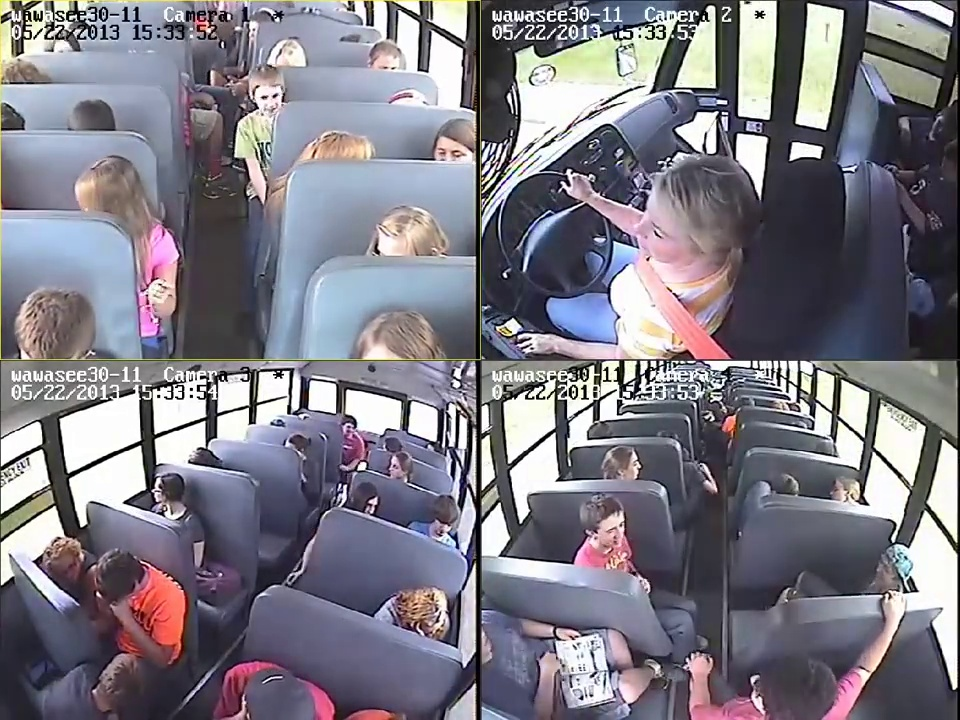face: (630, 197, 695, 274), (427, 128, 473, 163), (600, 509, 625, 550), (254, 80, 284, 113), (619, 448, 644, 477), (361, 489, 382, 518), (152, 478, 172, 506), (387, 457, 410, 475), (343, 420, 357, 439)
